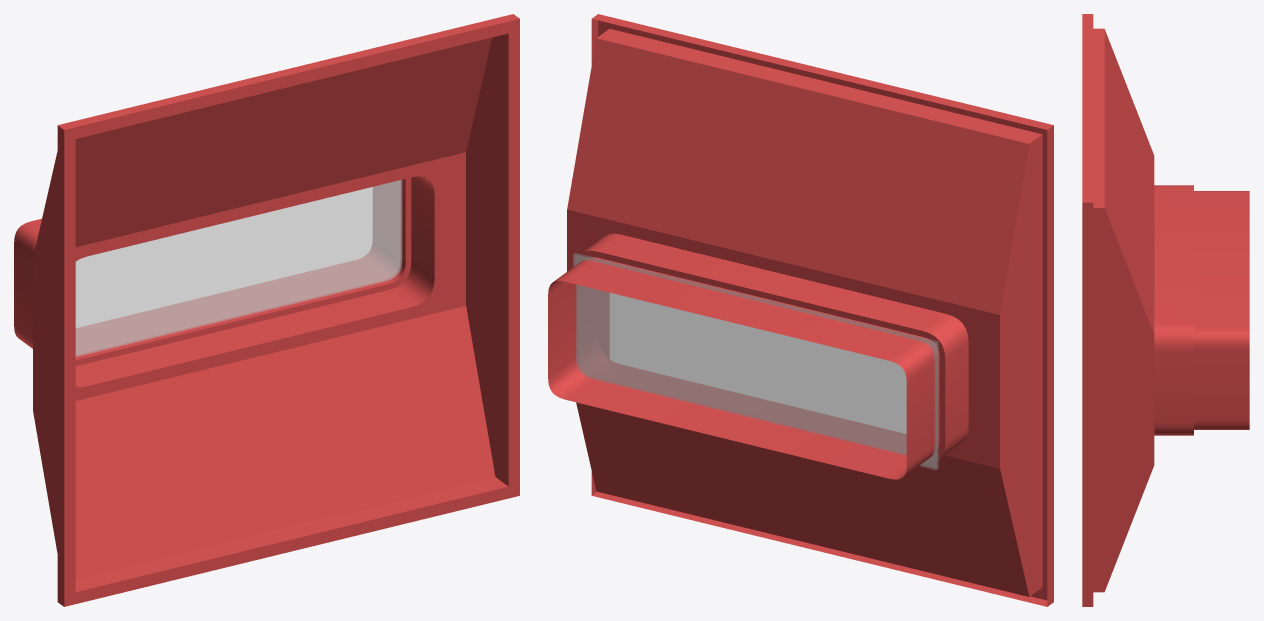
File: Wall_A_4x4m_Win.FBX
The picture shows the model from 3 angles, left to right: view 1: azimuth 30°, elevation 25°; view 2: azimuth 150°, elevation 25°; view 3: azimuth 270°, elevation 25°; orthographic projection. The views are drawn at different scales.
Parts seen in each view (by area): view 1: Wall_A_4x4m_Win; view 2: Wall_A_4x4m_Win; view 3: Wall_A_4x4m_Win.
Boxes of the visible parts, left/top/right/bottom form: Wall_A_4x4m_Win: left=14, top=14, right=519, bottom=606; Wall_A_4x4m_Win: left=548, top=14, right=1053, bottom=606; Wall_A_4x4m_Win: left=1082, top=14, right=1249, bottom=606.
Size of the model in its own units: 400 by 400 by 150.
